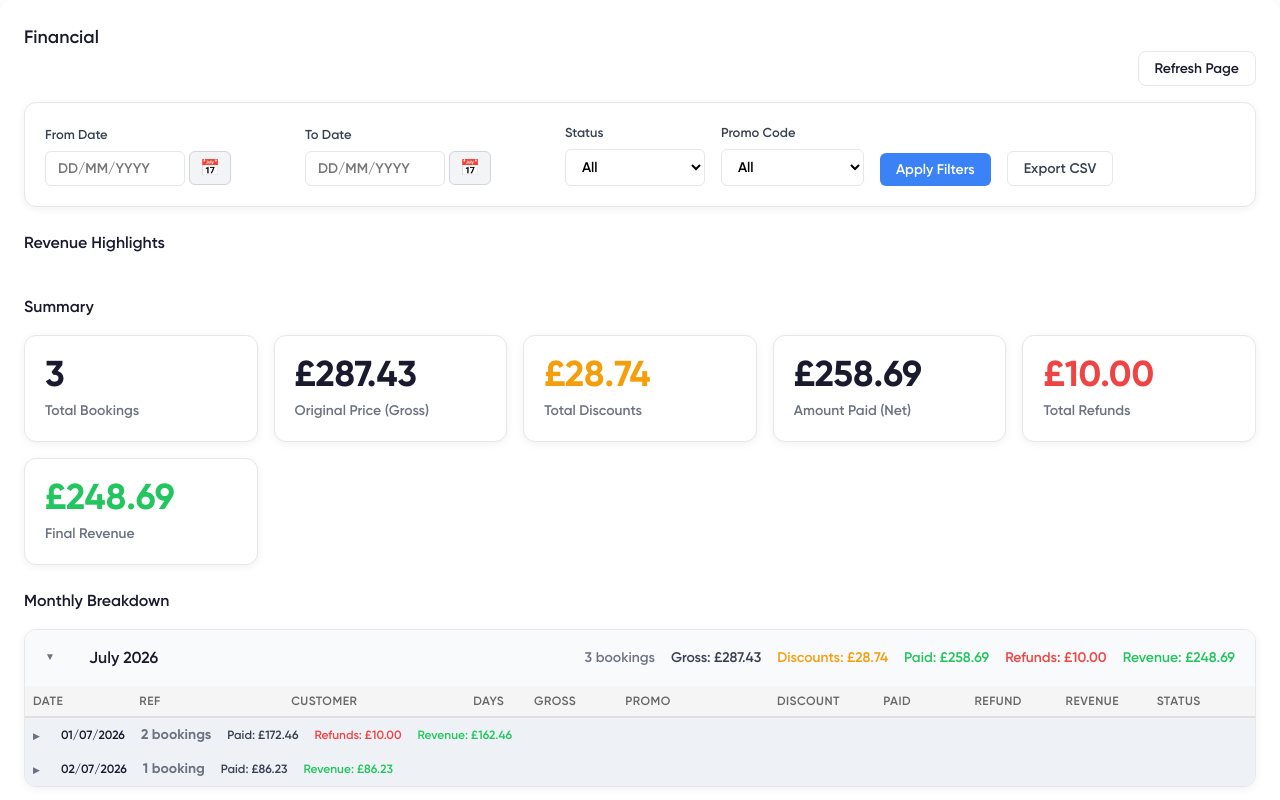
it: Financial Monthly Breakdown — daily carets › hides booking rows until the day is expanded, then shows only that day
Expected: the text "TAG-AAA11111" is not shown
Expected: the text "TAG-CCC33333" is not shown
Click the text "01/07/2026" at (640, 734), box left=25, top=716, right=1255, bottom=751
(page scrolled)
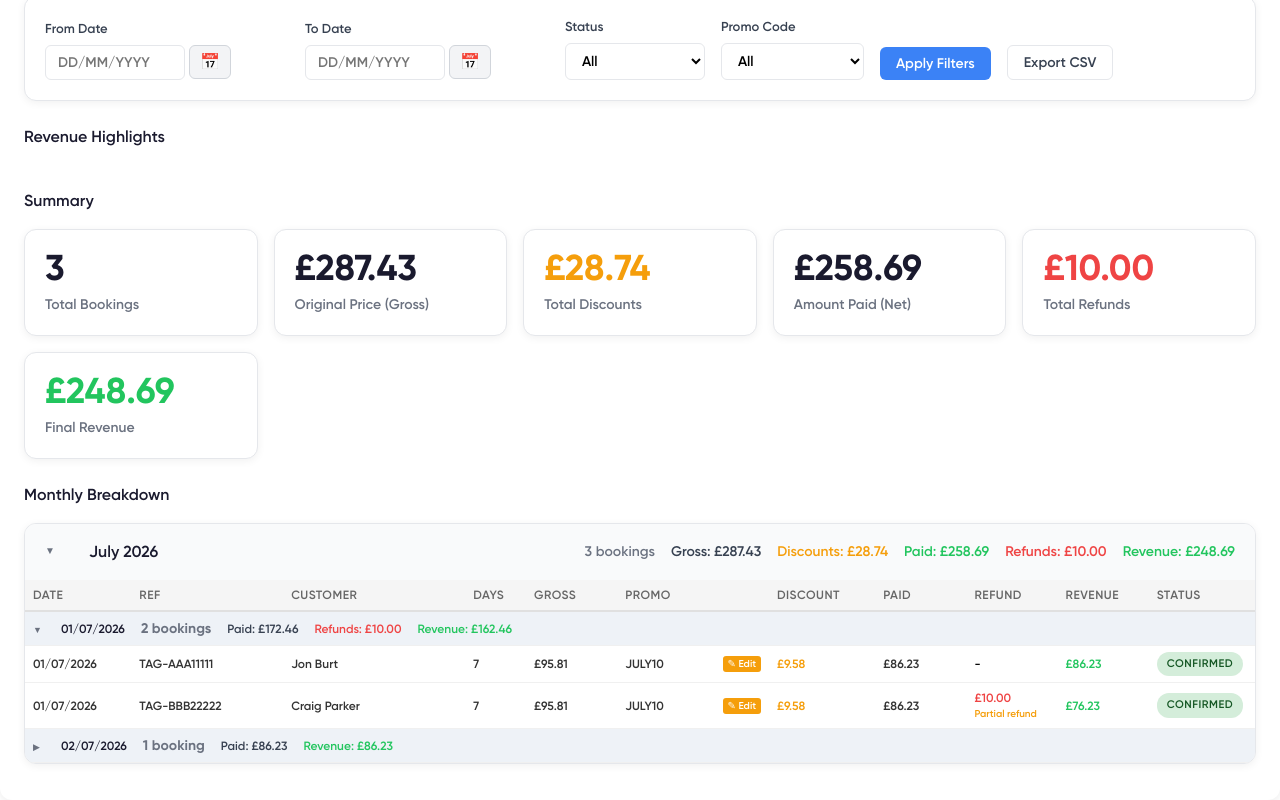
Expected: the text "TAG-CCC33333" is not shown
Now the text "TAG-AAA11111" is shown, box left=131, top=645, right=283, bottom=682
Now the text "TAG-BBB22222" is shown, box left=131, top=682, right=283, bottom=728
Click the text "02/07/2026" at (640, 746), box left=25, top=728, right=1255, bottom=762
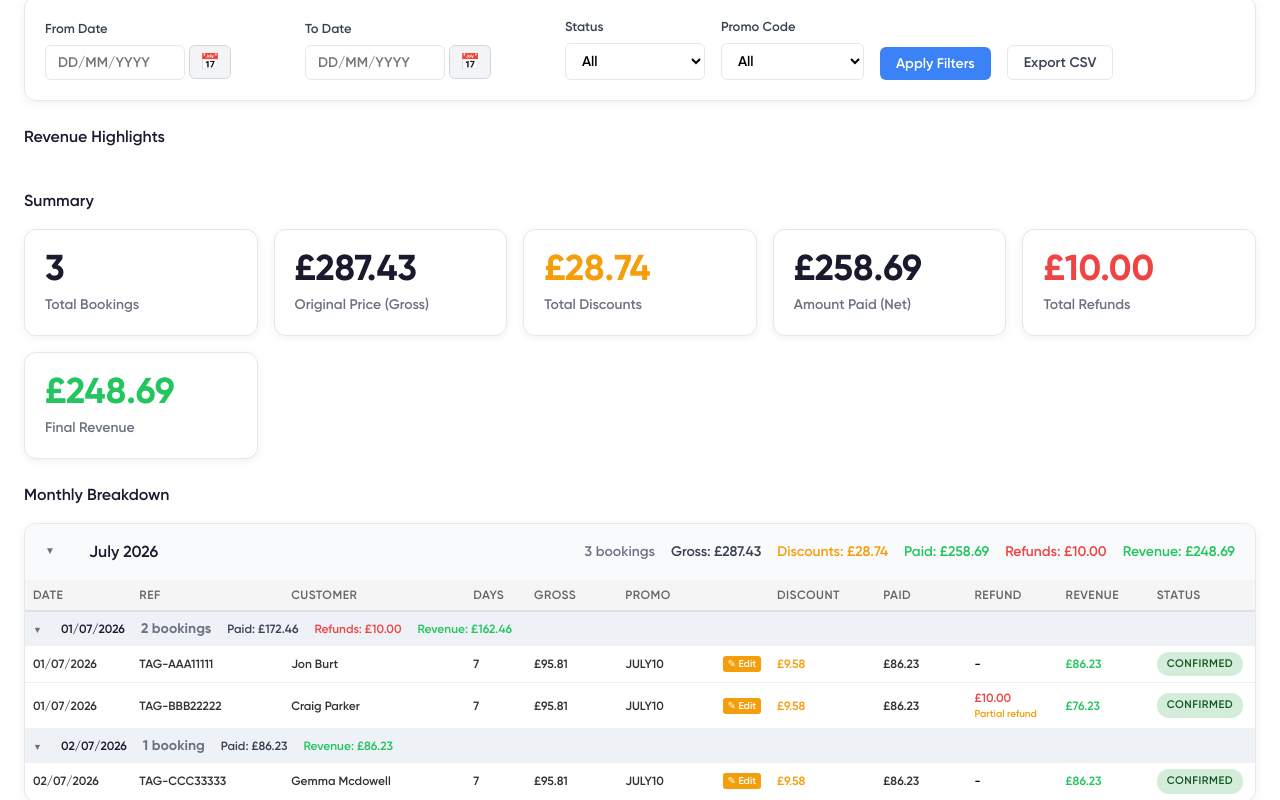
Now the text "TAG-CCC33333" is shown, box left=131, top=762, right=283, bottom=799
